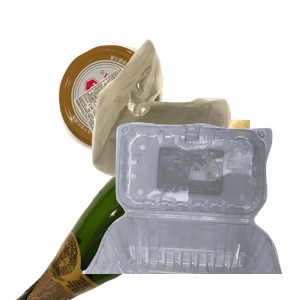glass: (13, 120, 253, 300)
metal: (56, 43, 211, 187)
plastic: (80, 120, 300, 300)
trash: (89, 37, 300, 213)
